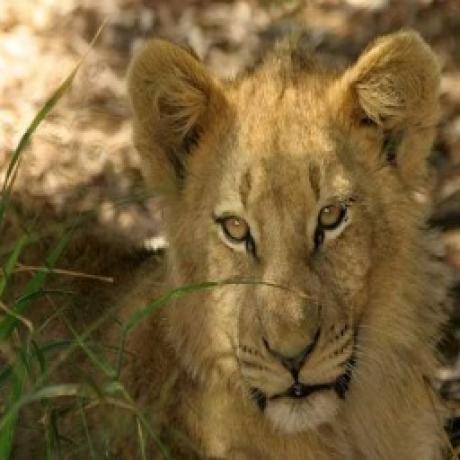Lion: (122, 29, 460, 460)
